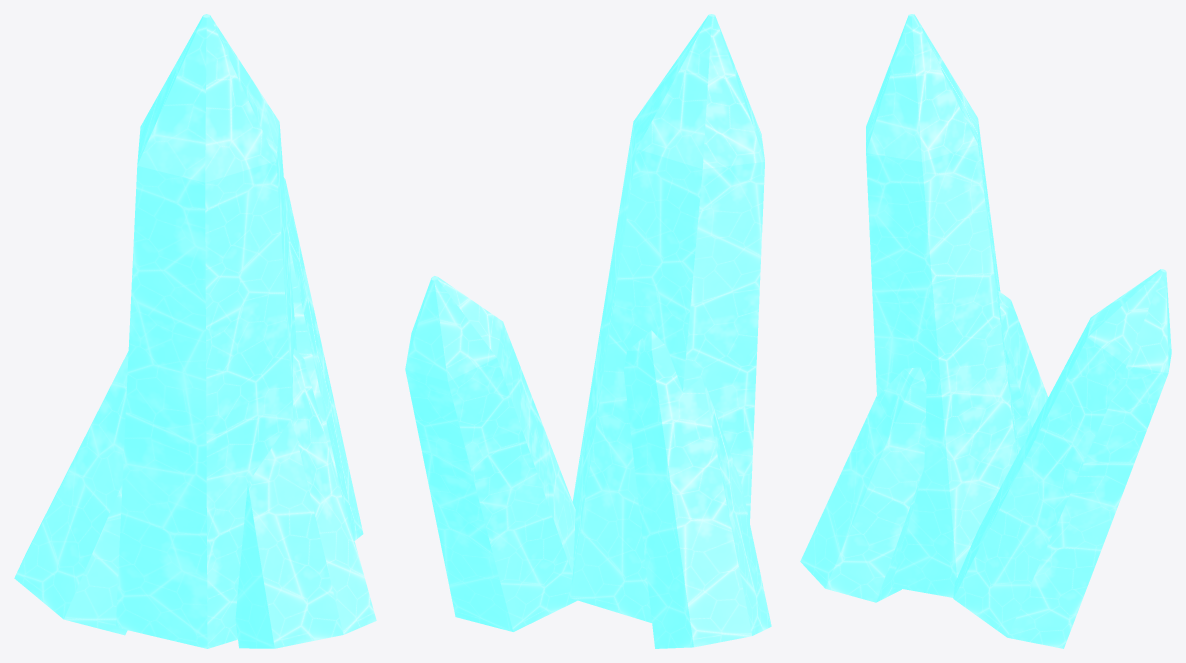
File: prop_glacier_crystal.glb
3 renders of one model, left to right at view 1: azimuth 30°, elevation 25°; view 2: azimuth 150°, elevation 25°; view 3: azimuth 270°, elevation 25°, orthographic. The views are drawn at different scales.
Parts seen in each view (by area): view 1: Shard_0; view 2: Shard_0; view 3: Shard_0.
Boxes of the visible parts, box(x1,y1,x2,y2) form: Shard_0: box(14, 14, 376, 648); Shard_0: box(405, 14, 771, 648); Shard_0: box(800, 14, 1171, 648).
Size of the model in its own units: 2.93 by 5.38 by 3.27.
1 material, 1 textured.
